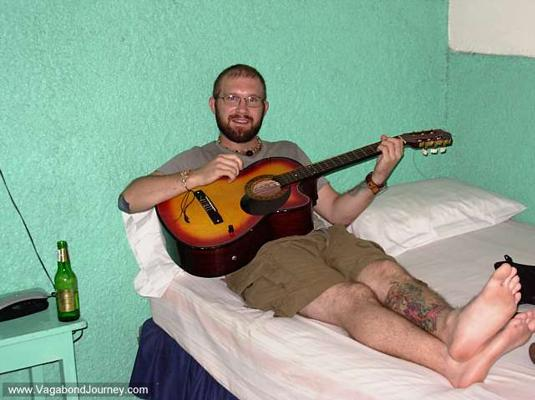person: (119, 65, 534, 389)
